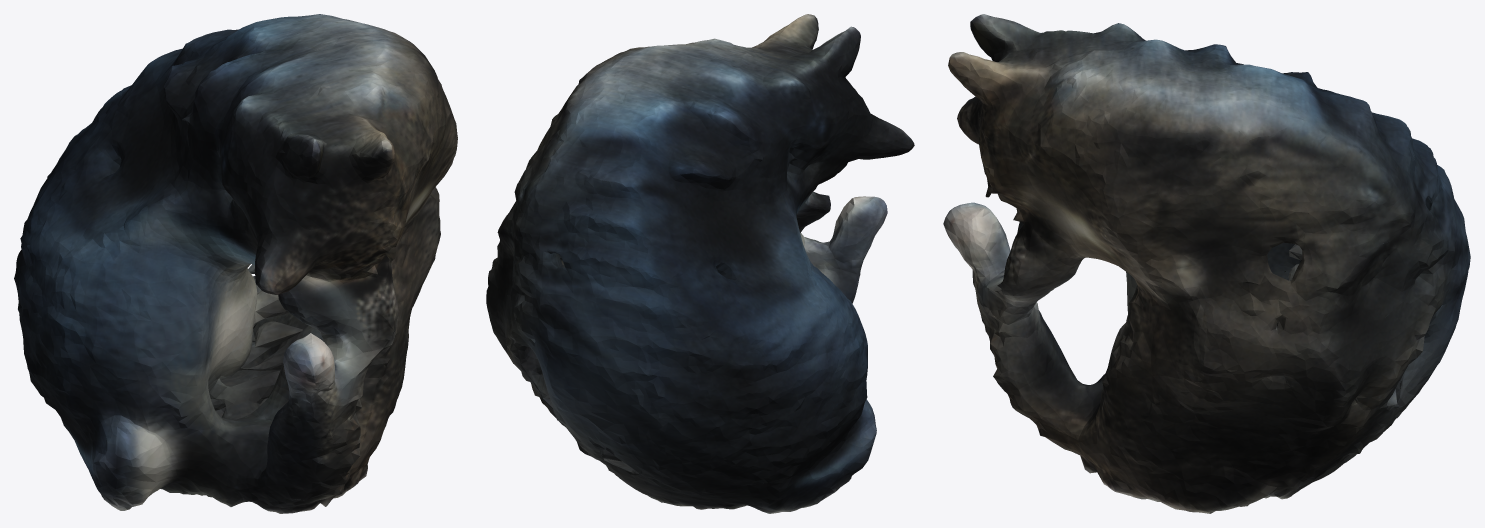
The model's file is IMG_SEG_38.glb.
The picture shows the model from 3 angles, left to right: view 1: azimuth 30°, elevation 25°; view 2: azimuth 150°, elevation 25°; view 3: azimuth 270°, elevation 25°; orthographic projection. The views are drawn at different scales.
Size of the model in its own units: 0.8525 by 0.9277 by 1.
1 material, 1 textured.
